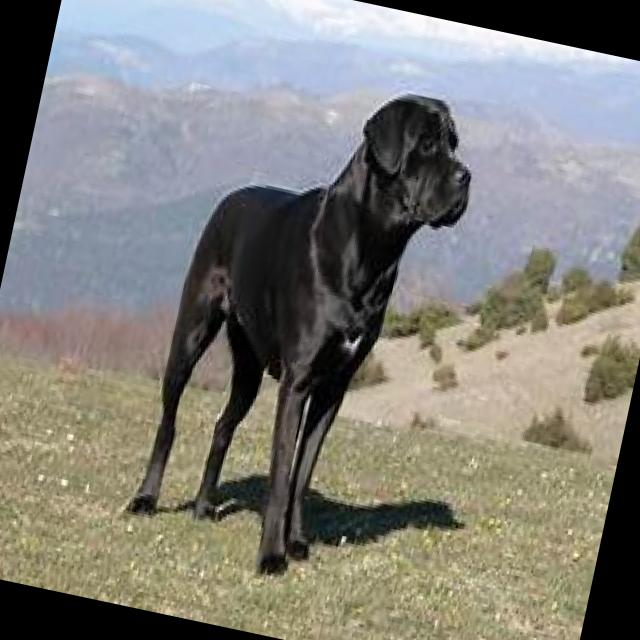animal: (116, 48, 488, 600)
